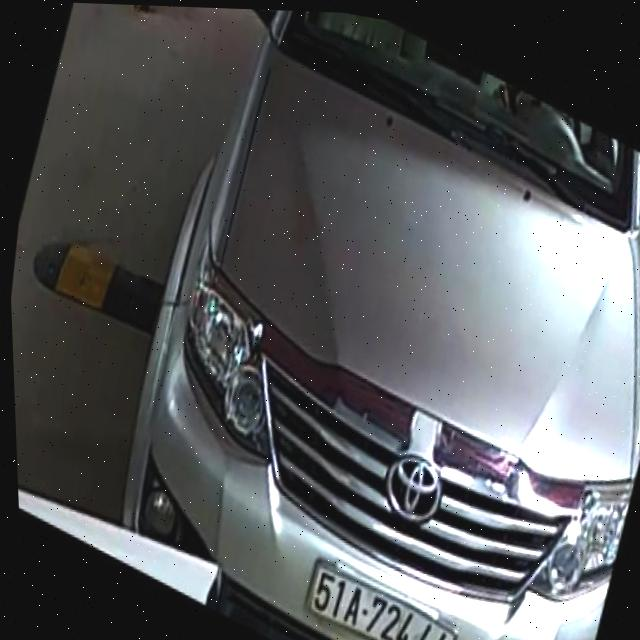car: (91, 3, 640, 640)
plate: (292, 546, 468, 640)
